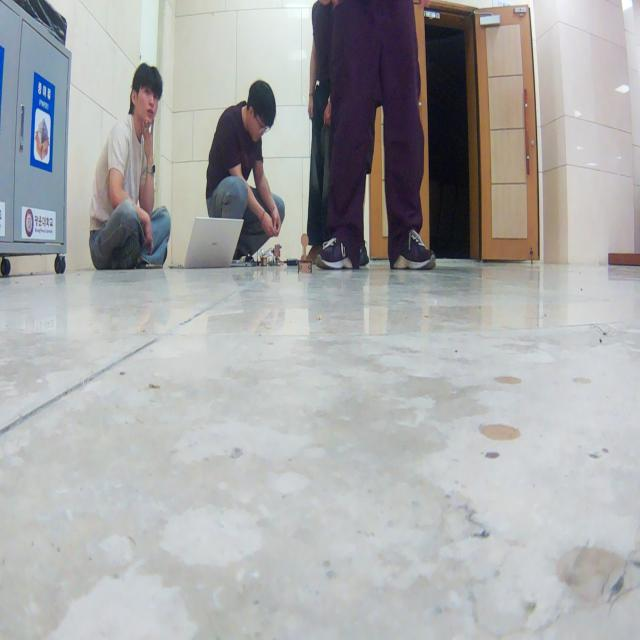target: (298, 233, 312, 273)
